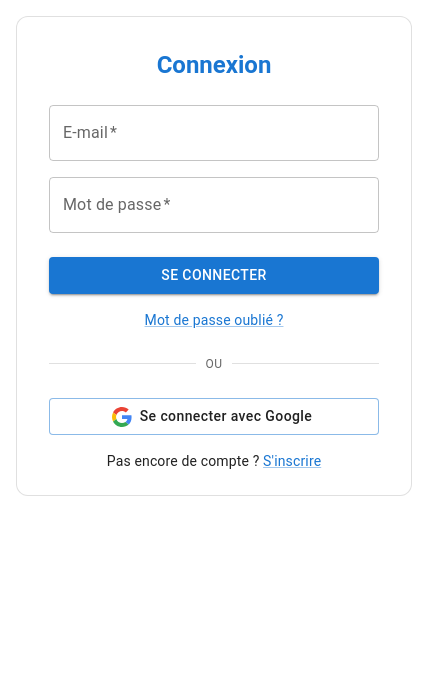
Login — unconfirmed-account branch (SMA-320) › renders the dedicated branch in French
The image size is (429, 697).
Type "alex@example.com" into the field labelled "E-mail *" at x=214, y=133, box x1=49 y1=105 x2=379 y2=161
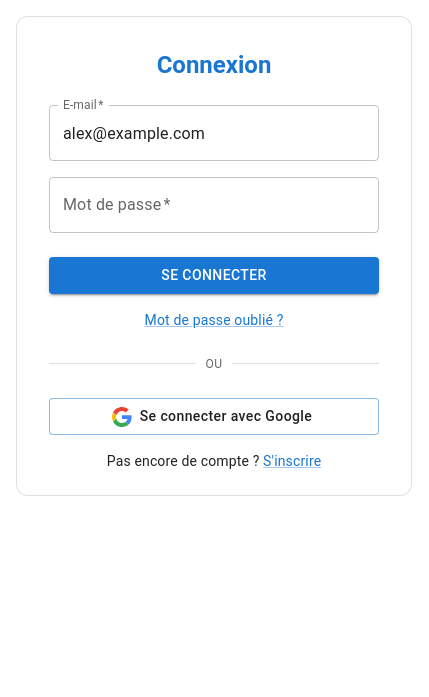
Type "Str0ng!Pass" into the password field labelled "Mot de passe *" at x=214, y=205, box x1=49 y1=177 x2=379 y2=233
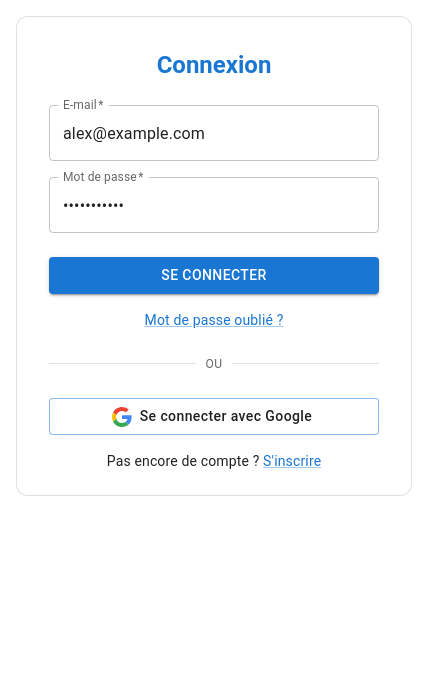
Click the button "Se connecter" at x=214, y=275, box x1=49 y1=257 x2=379 y2=294
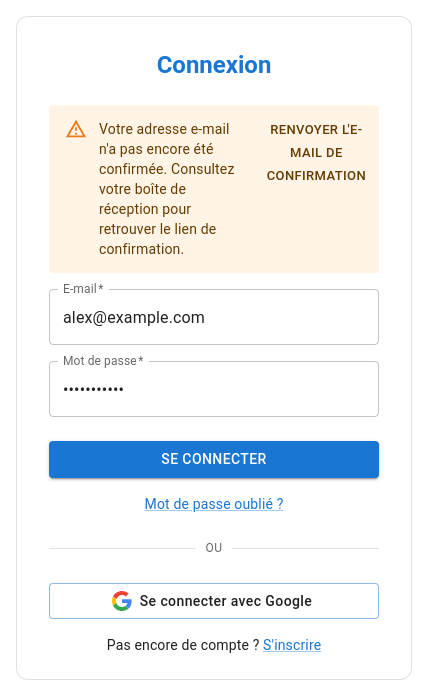
Check: the text "Votre adresse e-mail n'a pas encore été confirmée. Consultez votre boîte de réception pour retrouver le lien de confirma" is shown, box x1=99 y1=121 x2=234 y2=257
Check: the button "Renvoyer l'e-mail de confirmation" is shown, box x1=262 y1=115 x2=371 y2=191
